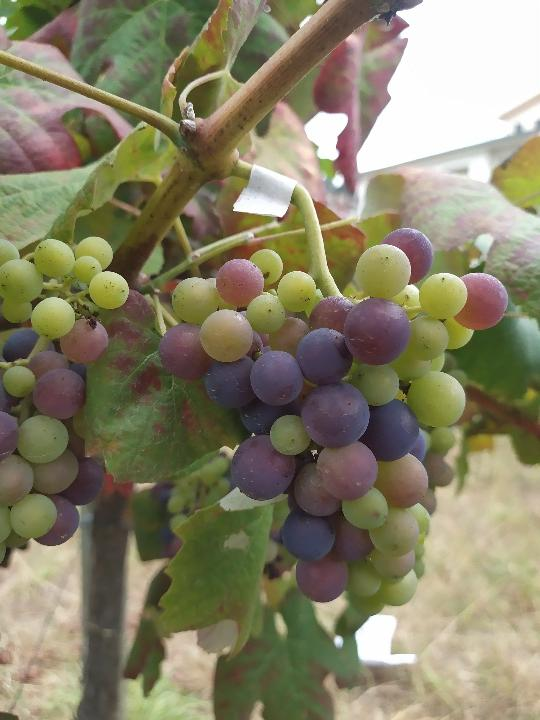grape: (157, 225, 517, 617), (0, 233, 132, 570)
